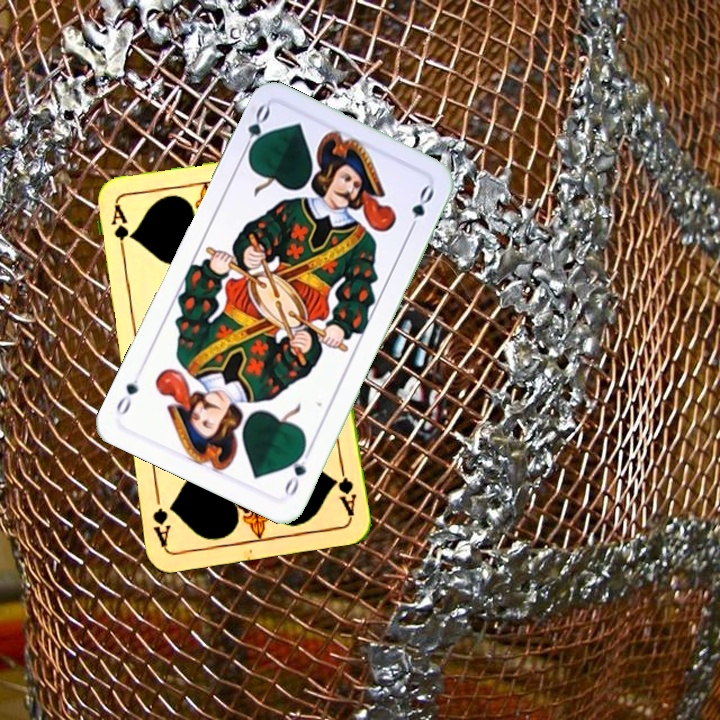GA: (329, 459, 359, 518), (107, 201, 130, 260)
GO: (237, 101, 273, 160), (280, 442, 315, 499)
